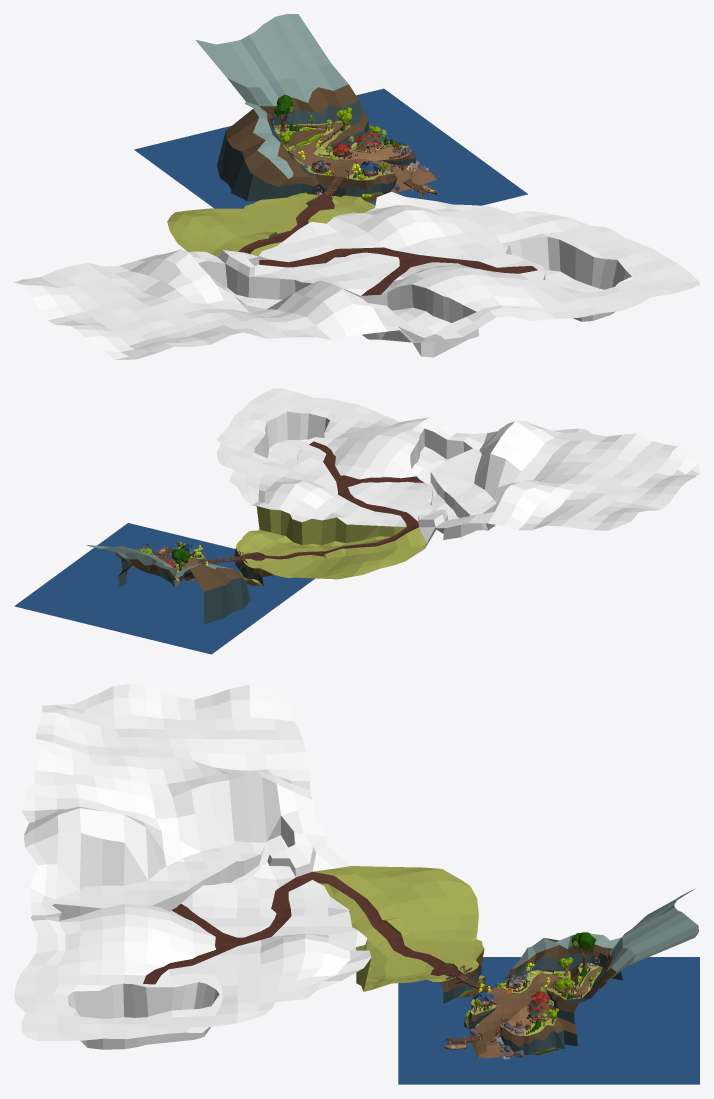
File: wioska_6.1_test.fbx
3 views of the same model, one above another, from view 1: azimuth 30°, elevation 25°; view 2: azimuth 150°, elevation 25°; view 3: azimuth 270°, elevation 25° (orthographic). The views are drawn at different scales.
Parts seen in each view (by area): view 1: wioska_test61; view 2: wioska_test61; view 3: wioska_test61.
Boxes of the visible parts, x1,y1,x2,y2 form: wioska_test61: (14, 14, 699, 359); wioska_test61: (14, 388, 699, 654); wioska_test61: (14, 683, 699, 1084).
Size of the model in its own units: 32368 by 5626 by 31715.
